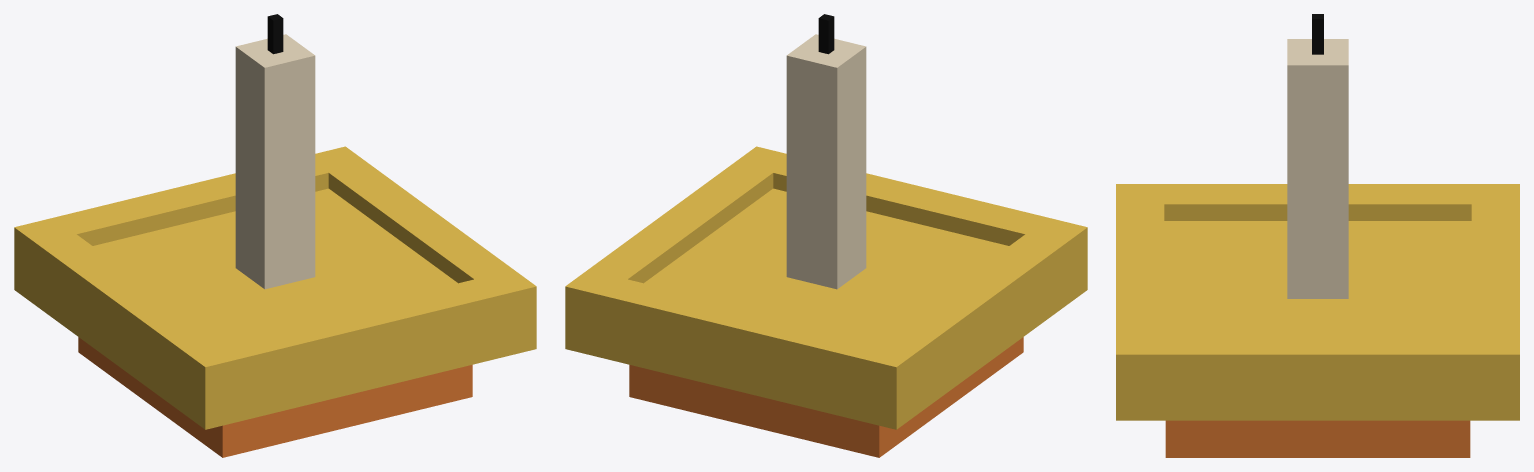
Rendered from 097 Candle.fbx.
3 renders of one model, left to right at view 1: azimuth 30°, elevation 25°; view 2: azimuth 150°, elevation 25°; view 3: azimuth 270°, elevation 25°, orthographic. The views are drawn at different scales.
Visible parts, largest first — view 1: Candle; view 2: Candle; view 3: Candle.
Part boxes in pixels (x1,y1,x2,y2): Candle: (14,14,536,457); Candle: (565,14,1087,457); Candle: (1116,14,1519,457).
Size of the model in its own units: 0.8847 by 0.9119 by 0.8847.
